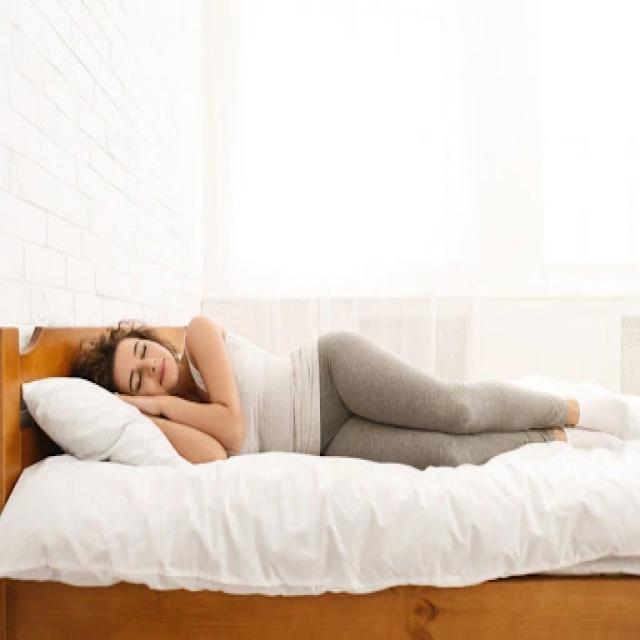people: (47, 281, 640, 510)
